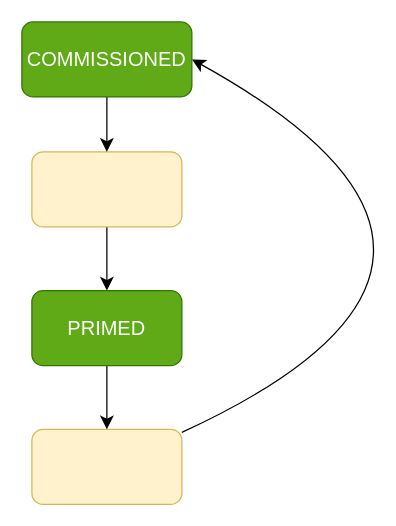
Image size: 396x526. Some labels were removed from this diagram. Here are the shapes that lost their labels. From the top down, the box of each, then its label:
(31, 151, 182, 227): PRIMING
(31, 428, 182, 504): DEPRIMING
